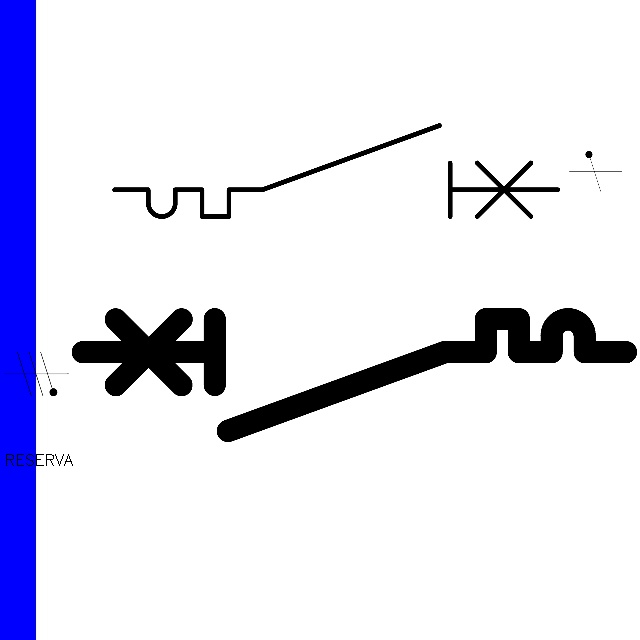interruptor_termomagnetico: (68, 305, 639, 445), (103, 114, 569, 228)
